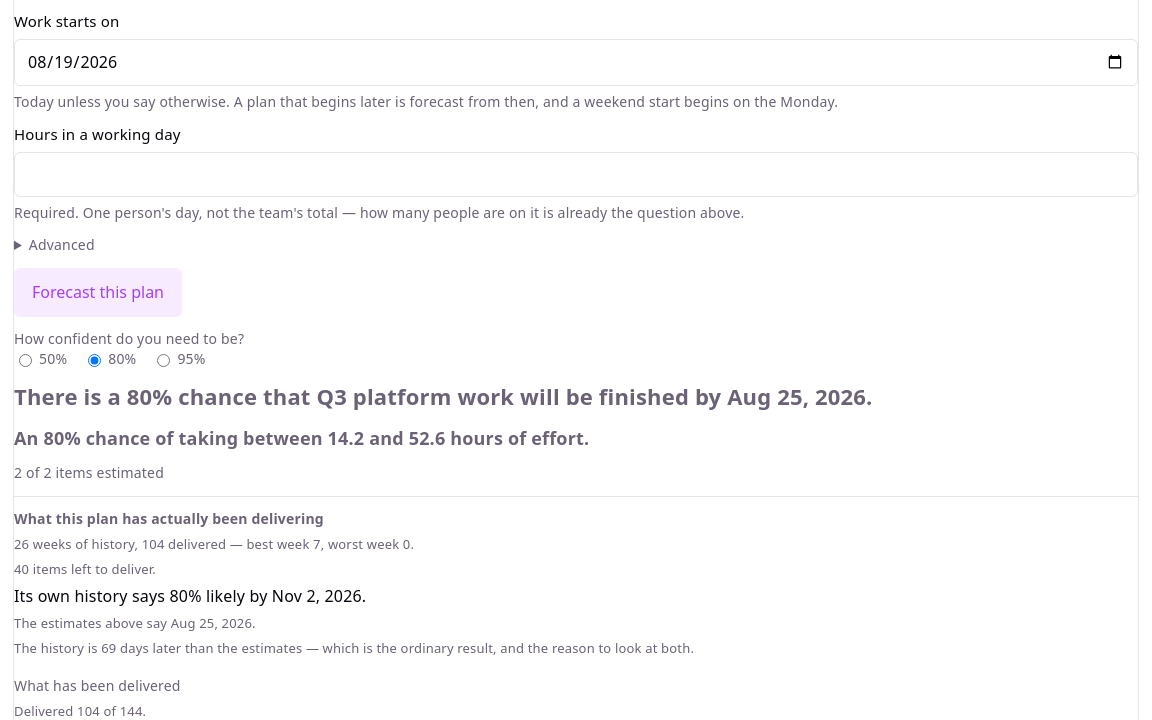
ForecastPanel › moves both dates when the confidence changes
This screenshot has width=1152, height=720.
(page scrolled)
Expected: the text "Its own history says 80% likely by Nov 2, 2026." is shown, [14,585,366,607]
Click the radio button labelled "50%". click: (26, 361)
box: [19,354,32,367]
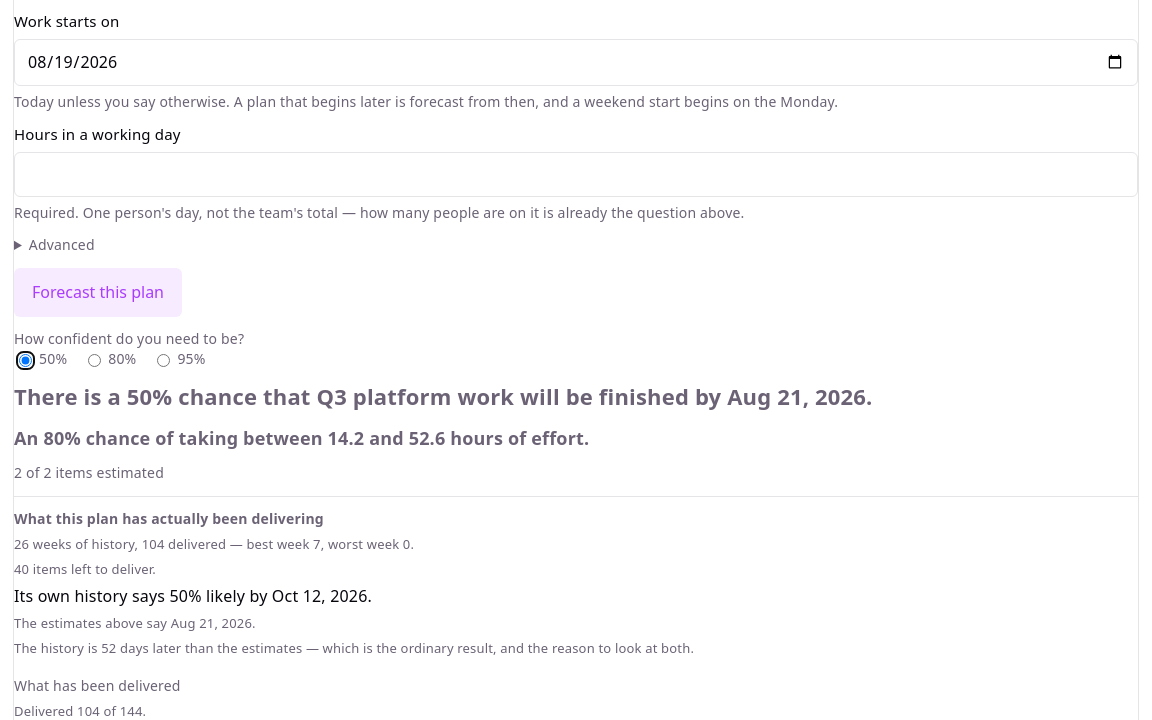
Expected: the text "Its own history says 50% likely by Oct 12, 2026." is shown, [14,585,372,607]
Expected: the text "The estimates above say Aug 21, 2026." is shown, [14,614,256,632]
